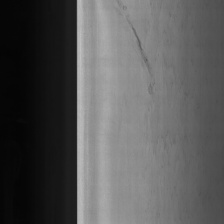water_spot: (162, 18, 214, 210), (115, 0, 159, 104)
